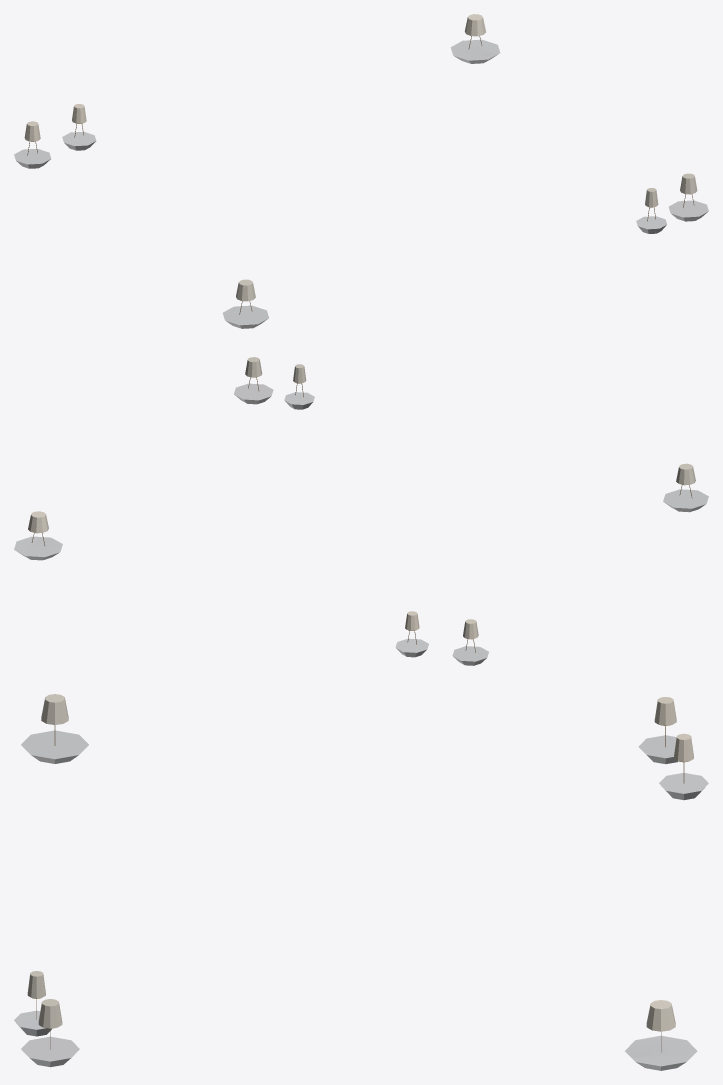
The model's file is 09_backdrop.glb.
The picture shows the model from 3 angles, top to bottom: view 1: azimuth 30°, elevation 25°; view 2: azimuth 150°, elevation 25°; view 3: azimuth 270°, elevation 25°; orthographic projection. The views are drawn at different scales.
Visible parts, largest first — view 1: backdrop_cloud_nocol, backdrop_envelope_nocol; view 2: backdrop_cloud_nocol, backdrop_envelope_nocol; view 3: backdrop_cloud_nocol, backdrop_envelope_nocol.
Part boxes in pixels (<box>): backdrop_cloud_nocol: <box>14,39,708,328</box>; backdrop_envelope_nocol: <box>24,14,697,301</box>; backdrop_cloud_nocol: <box>14,383,708,665</box>; backdrop_envelope_nocol: <box>28,357,695,639</box>; backdrop_cloud_nocol: <box>14,730,708,1070</box>; backdrop_envelope_nocol: <box>27,694,693,1031</box>.
Bounding box in the file's own units: 349 × 27.5 × 305.
